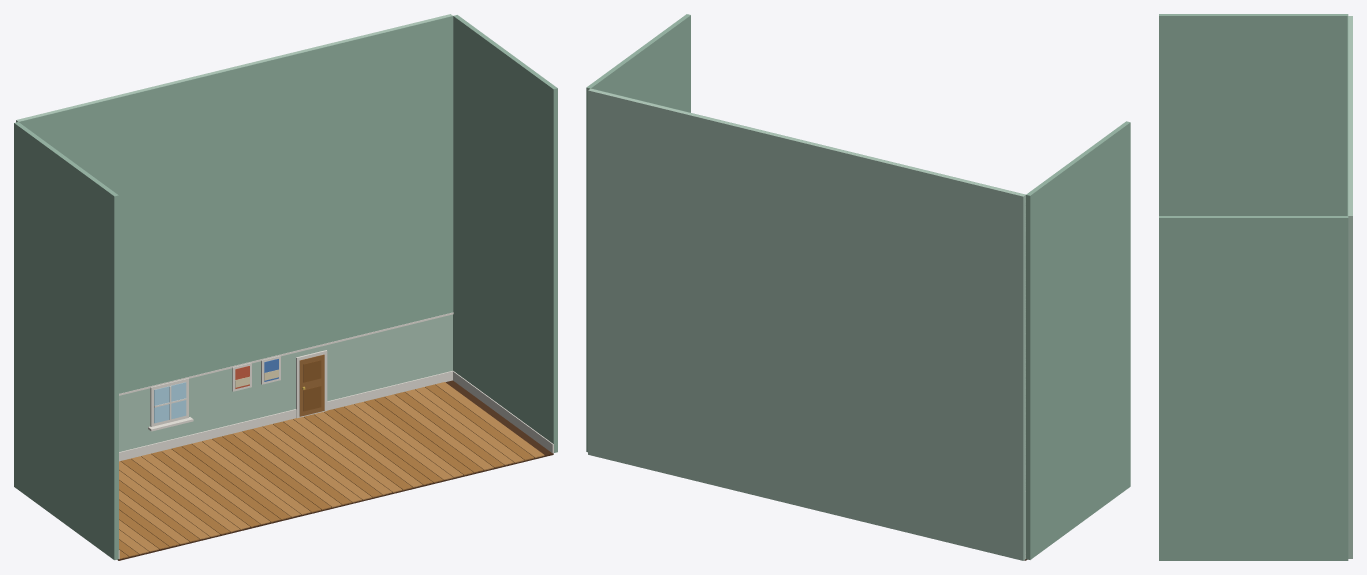
Rendered from room_eua_wood.glb.
3 renders of one model, left to right at view 1: azimuth 30°, elevation 25°; view 2: azimuth 150°, elevation 25°; view 3: azimuth 270°, elevation 25°, orthographic. The views are drawn at different scales.
Visible parts, largest first — view 1: room; view 2: room; view 3: room.
Part boxes in pixels (<box>): room: <box>14,14,557,560</box>; room: <box>586,14,1130,560</box>; room: <box>1159,14,1352,560</box>.
Bounding box in the file's own units: 30.6 × 24.11 × 12.3.
